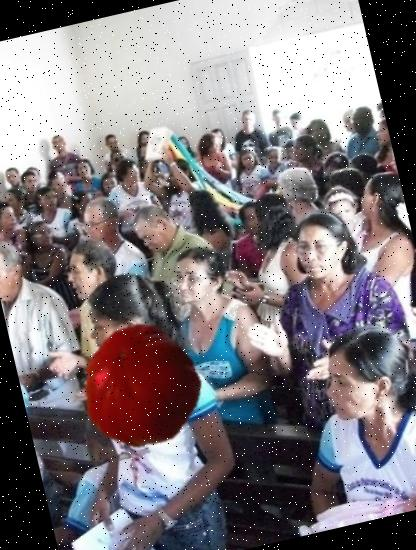Tomato: (66, 316, 212, 462)
